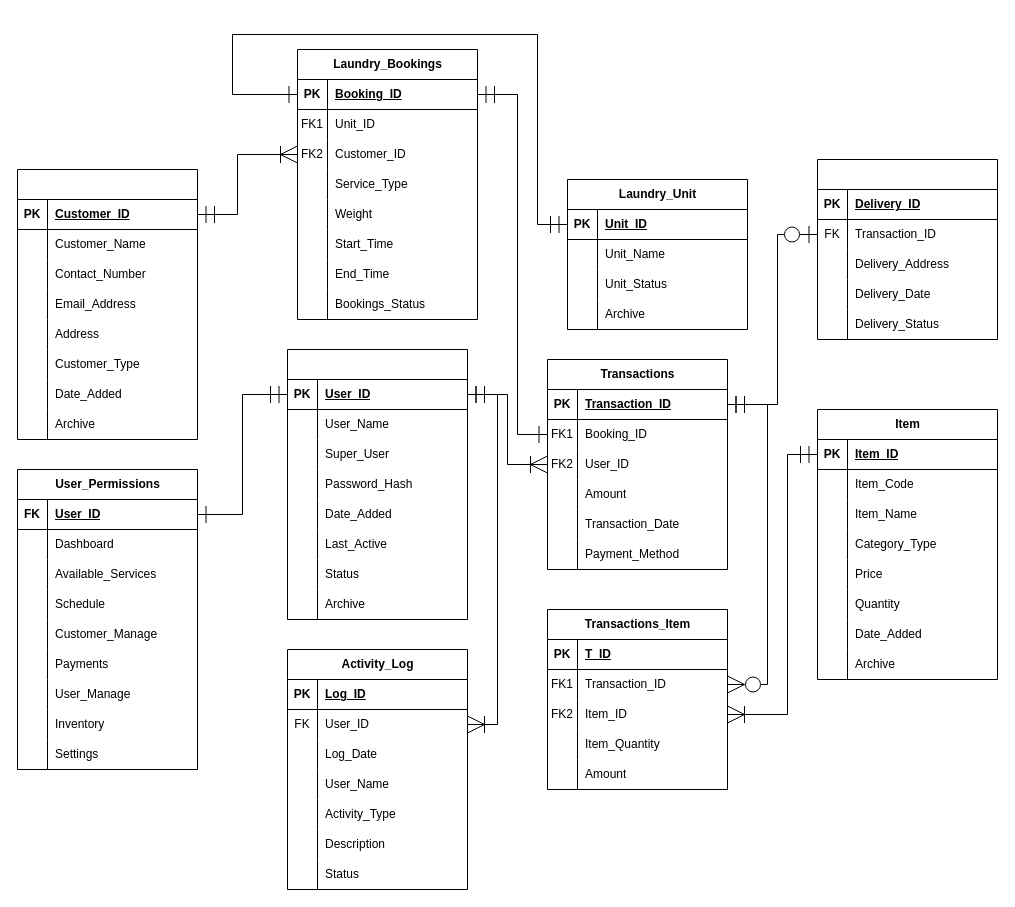
Image size: 1015x907. Some labels were removed from this diagram. Each missing label, with the box of its shape:
Customers: (16, 168, 198, 440)
Deliveries: (816, 158, 998, 340)
User_Account: (286, 348, 468, 620)
